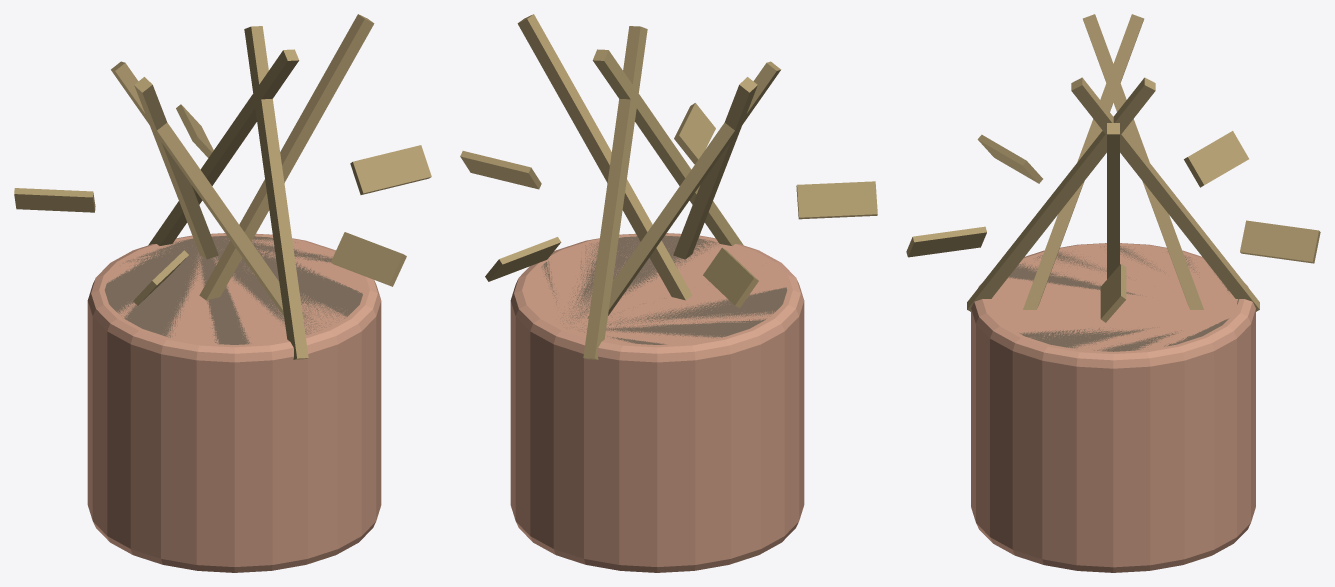
The model's file is dead_plant.fbx.
3 renders of one model, left to right at view 1: azimuth 30°, elevation 25°; view 2: azimuth 150°, elevation 25°; view 3: azimuth 270°, elevation 25°, orthographic. The views are drawn at different scales.
Parts seen in each view (by area): view 1: dead_plant; view 2: dead_plant; view 3: dead_plant.
Boxes of the visible parts, x1,y1,x2,y2 form: dead_plant: [14, 14, 431, 572]; dead_plant: [460, 14, 877, 572]; dead_plant: [906, 14, 1320, 572].
Size of the model in its own units: 0.3596 by 0.4591 by 0.3781.
